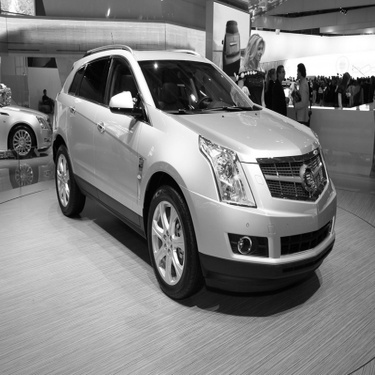car: (43, 40, 344, 308), (1, 97, 53, 166)
